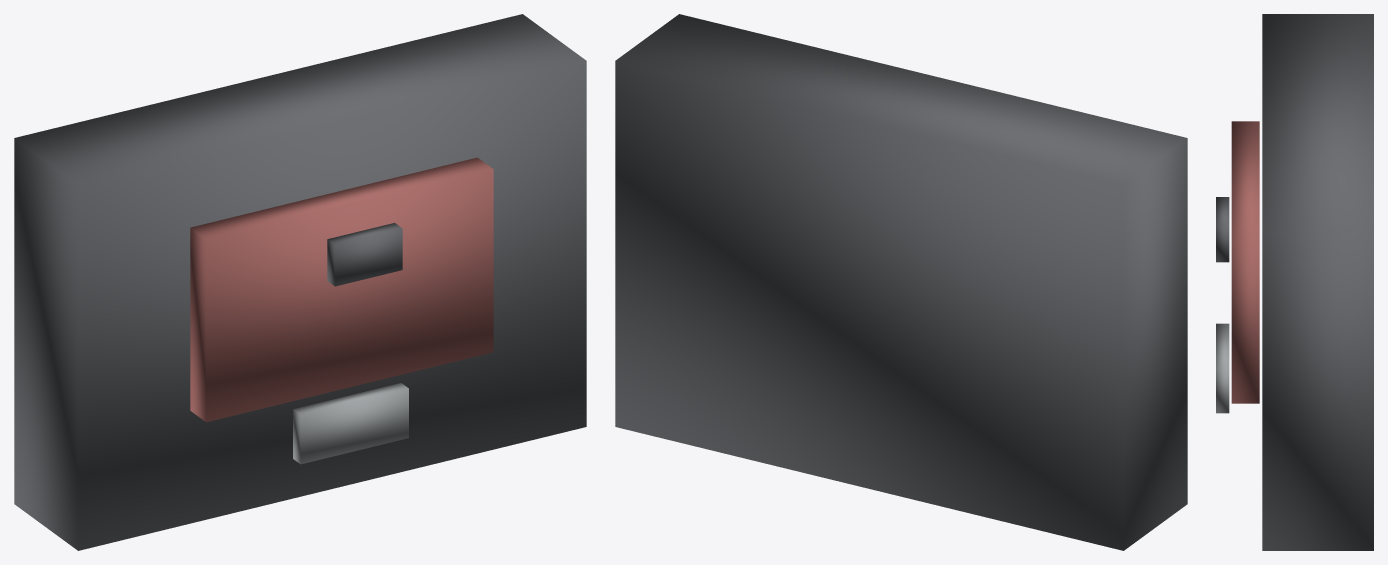
Rendered from take_a_number_display__weathered.glb.
3 renders of one model, left to right at view 1: azimuth 30°, elevation 25°; view 2: azimuth 150°, elevation 25°; view 3: azimuth 270°, elevation 25°, orthographic. The views are drawn at different scales.
Visible parts, largest first — view 1: world; view 2: world; view 3: world.
Boxes of the visible parts, x1,y1,x2,y2 form: world: (14, 14, 586, 550); world: (615, 14, 1187, 550); world: (1216, 14, 1373, 550).
Size of the model in its own units: 0.46 by 0.3168 by 0.1415.
